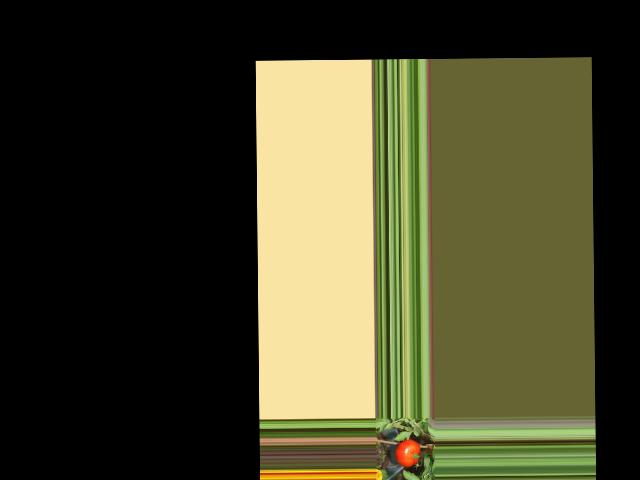tomato: (395, 438, 420, 467)
